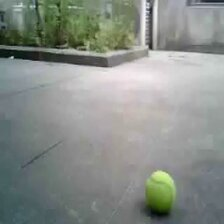tennis: (145, 173, 176, 214)
